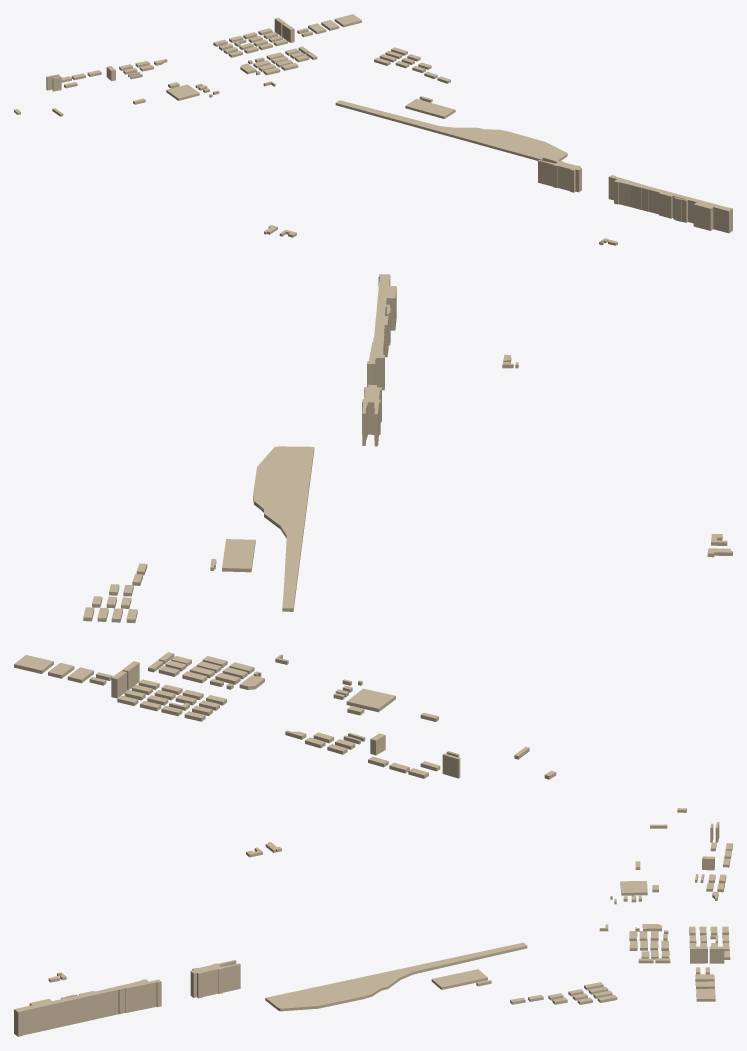
File: overview-estimated--7_3.glb
3 renders of one model, top to bottom at view 1: azimuth 30°, elevation 25°; view 2: azimuth 150°, elevation 25°; view 3: azimuth 270°, elevation 25°, orthographic. The views are drawn at different scales.
Bounding box in the file's own units: 2195 × 112 × 2946.
